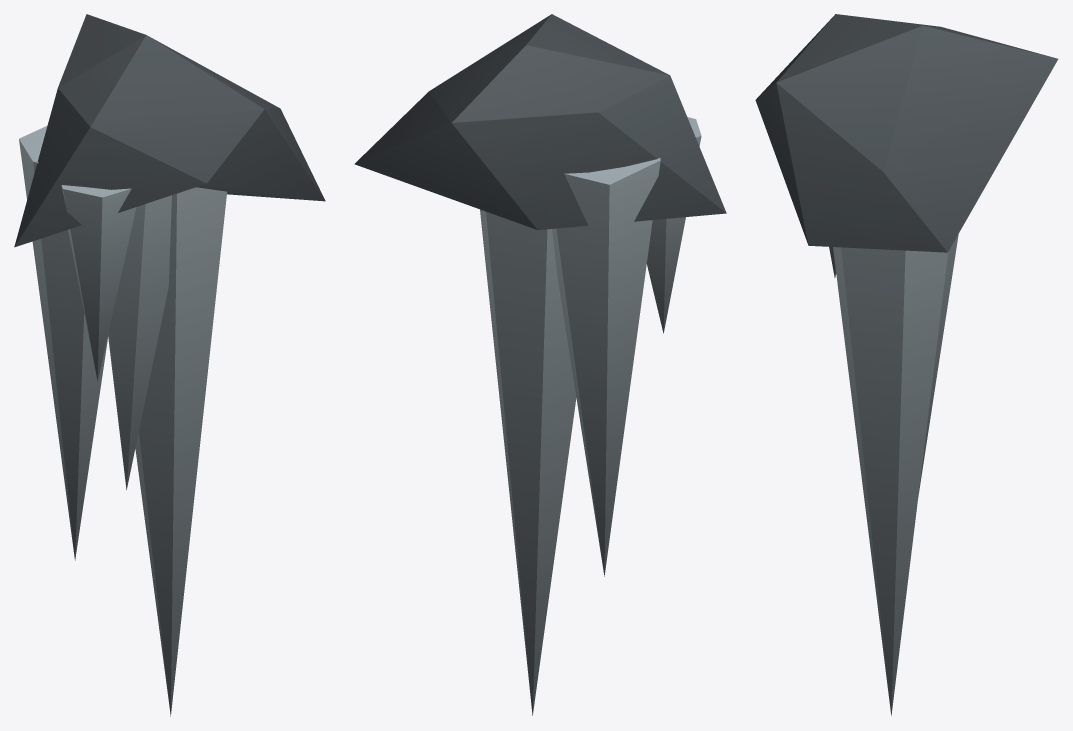
Rendered from stalactite_a.glb.
The picture shows the model from 3 angles, left to right: view 1: azimuth 30°, elevation 25°; view 2: azimuth 150°, elevation 25°; view 3: azimuth 270°, elevation 25°; orthographic projection. The views are drawn at different scales.
Parts seen in each view (by area): view 1: stalactite_a; view 2: stalactite_a; view 3: stalactite_a.
Part boxes in pixels (left/top/right/bottom): stalactite_a: left=14, top=14, right=325, bottom=716; stalactite_a: left=354, top=14, right=726, bottom=715; stalactite_a: left=755, top=14, right=1058, bottom=715.
Bounding box in the file's own units: 1.57 × 3.14 × 1.25.
Materials: 1 (1 with a texture image).
